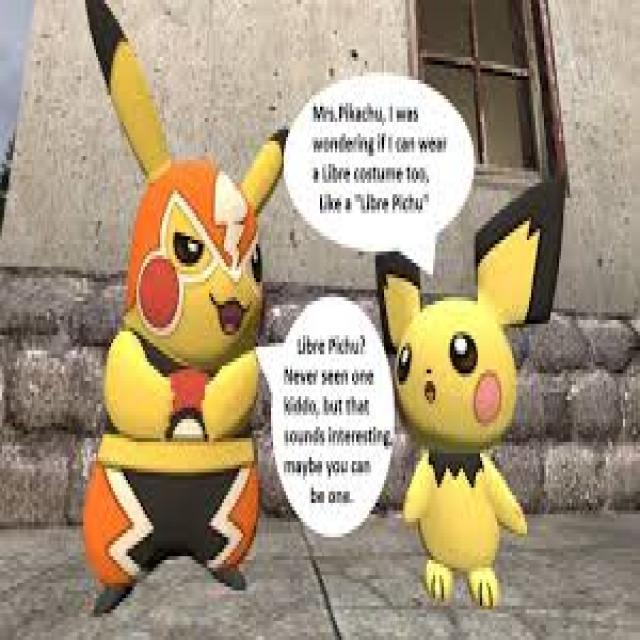pichu: (372, 226, 564, 622)
